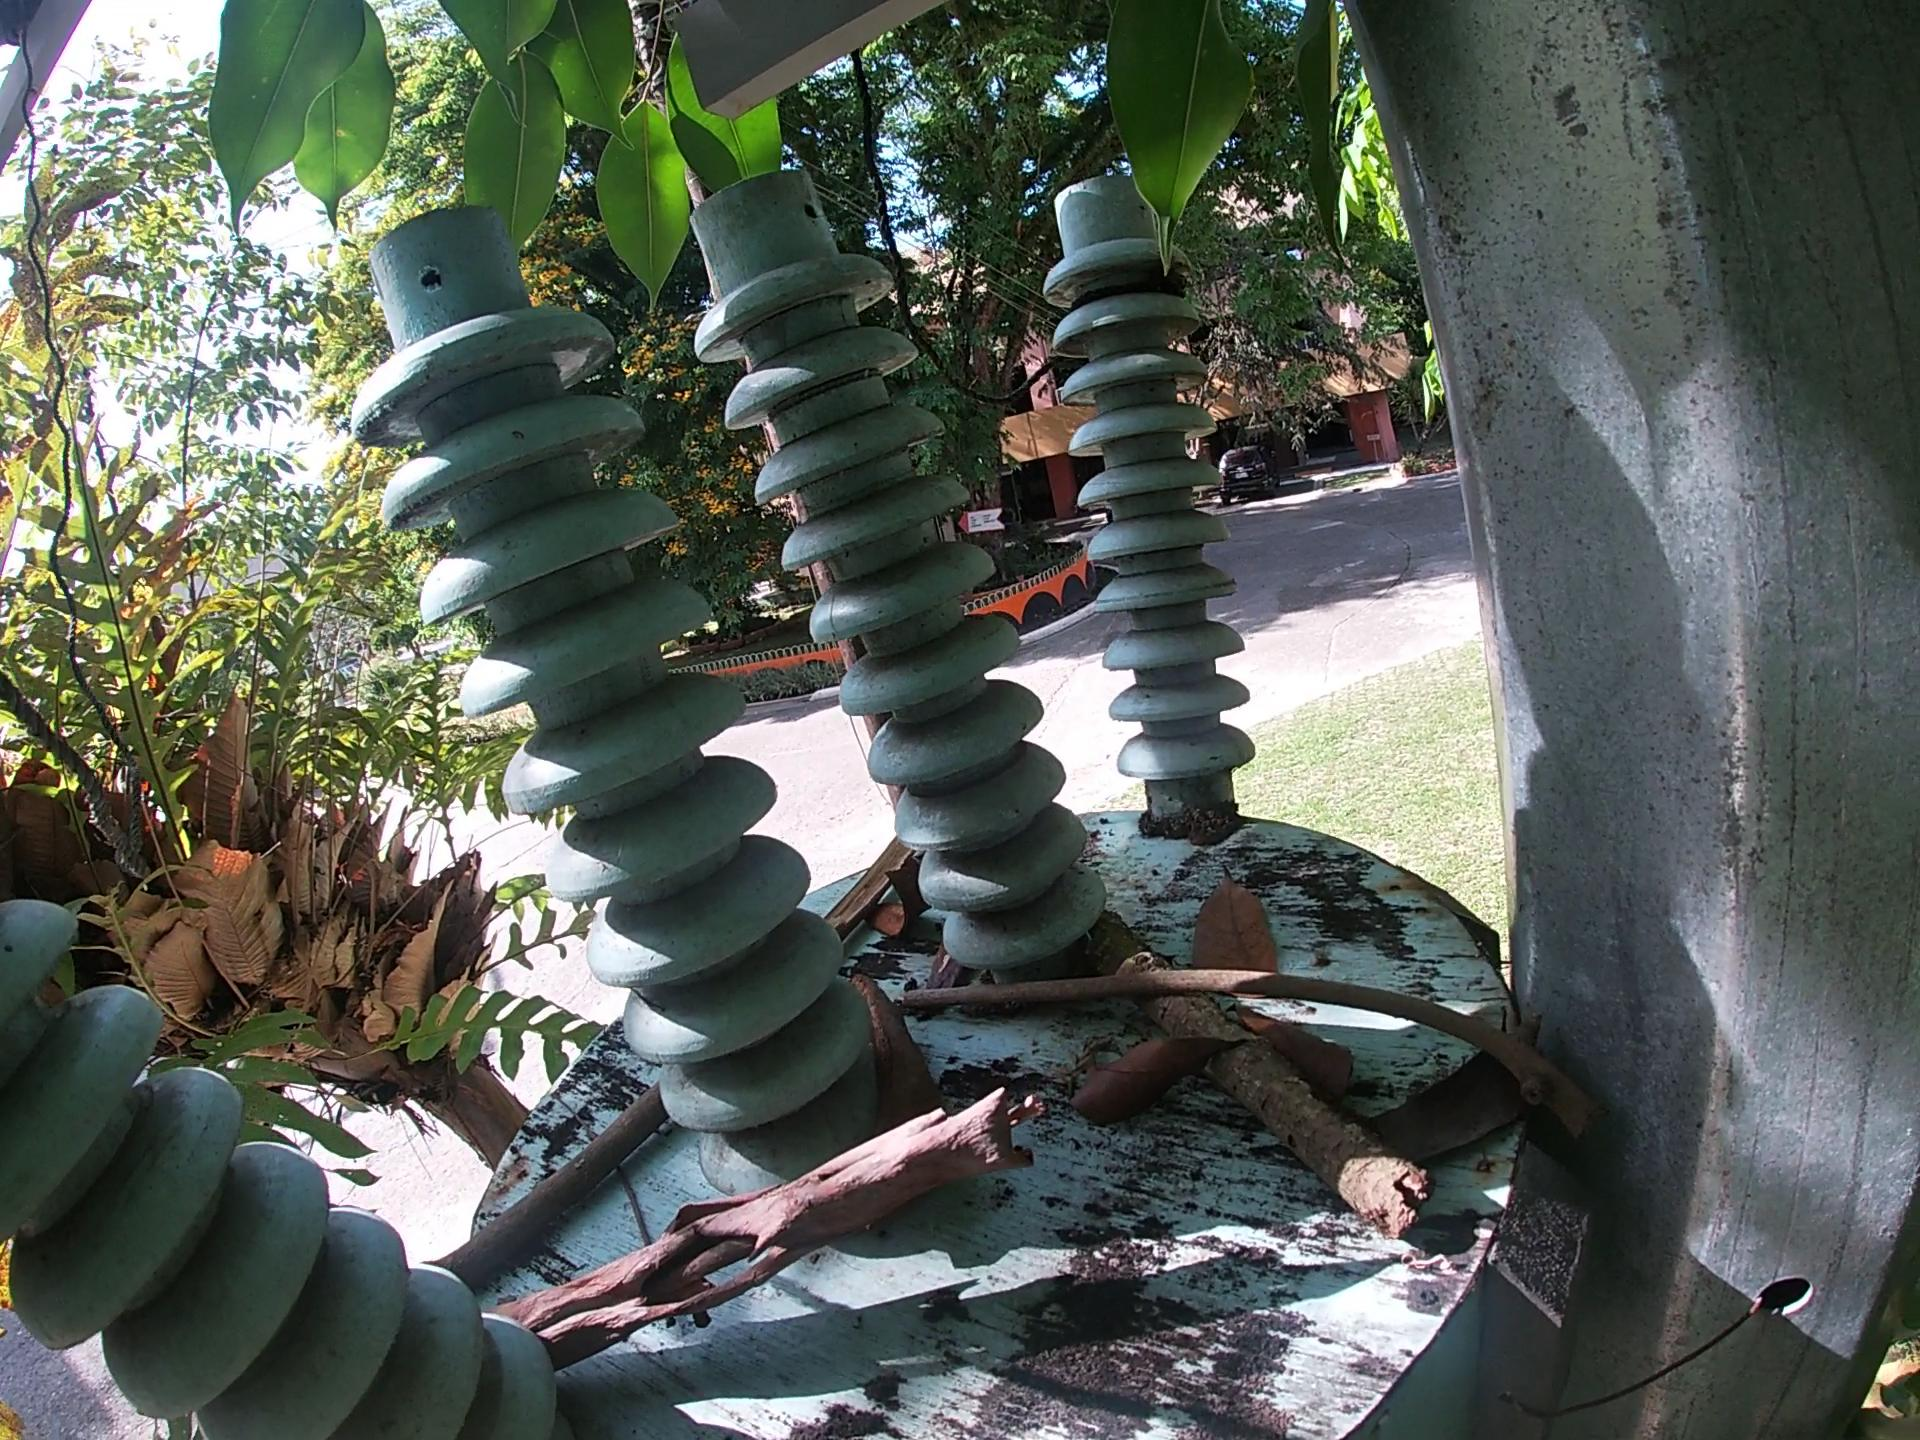leaf: (1391, 1042, 1577, 1163), (1187, 853, 1302, 1003), (1092, 1029, 1241, 1115), (1258, 1013, 1385, 1113)
mahogany fruit: (856, 957, 936, 1125), (863, 858, 940, 961)
tree branch: (488, 1072, 1060, 1389), (901, 976, 1666, 1172), (901, 965, 1640, 1153), (1147, 989, 1468, 1252), (434, 1097, 677, 1268), (819, 830, 915, 930), (614, 1162, 656, 1252)
